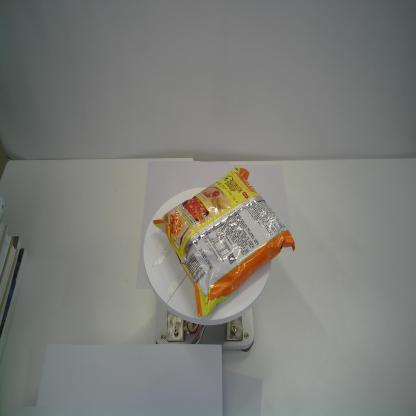Instant Noodles: (151, 166, 296, 318)
